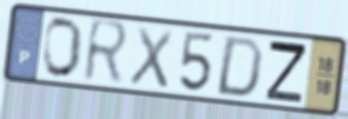5: (178, 29, 215, 94)
D: (212, 34, 266, 100)
O: (41, 15, 86, 81)
R: (80, 16, 132, 89)
X: (126, 24, 175, 92)
Z: (264, 38, 309, 106)
